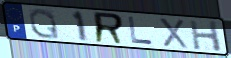1: (70, 10, 90, 43)
H: (187, 19, 223, 53)
L: (127, 15, 155, 46)
Q: (28, 7, 62, 41)
R: (93, 11, 126, 46)
X: (157, 16, 190, 50)
